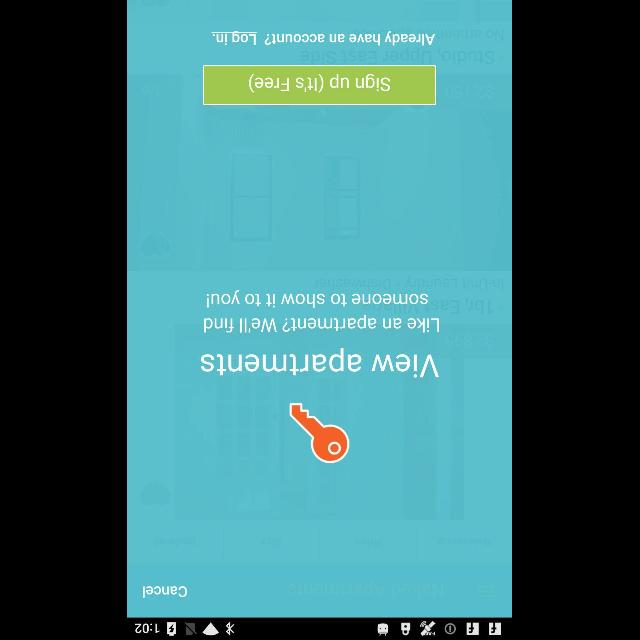image: (290, 403, 350, 463)
text: (205, 290, 440, 332), (202, 348, 440, 378), (212, 30, 436, 46), (144, 586, 188, 598)
textbutton: (204, 65, 436, 105)
uppertaskbar: (128, 617, 512, 639)
